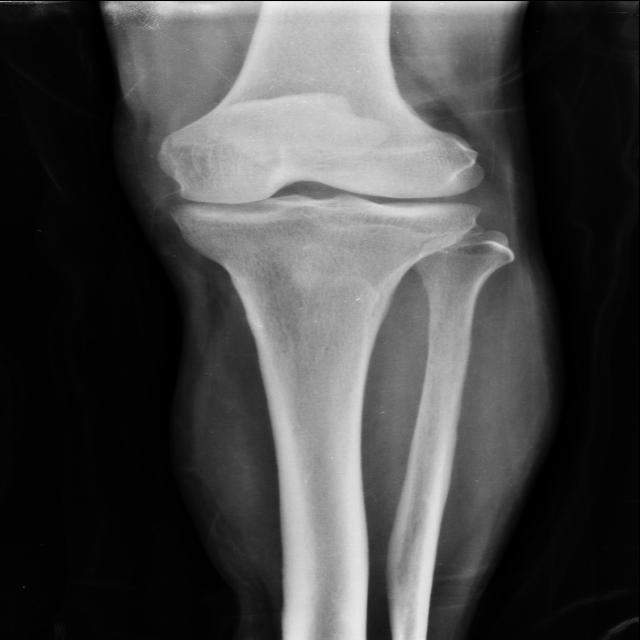normal: (154, 120, 486, 237)
